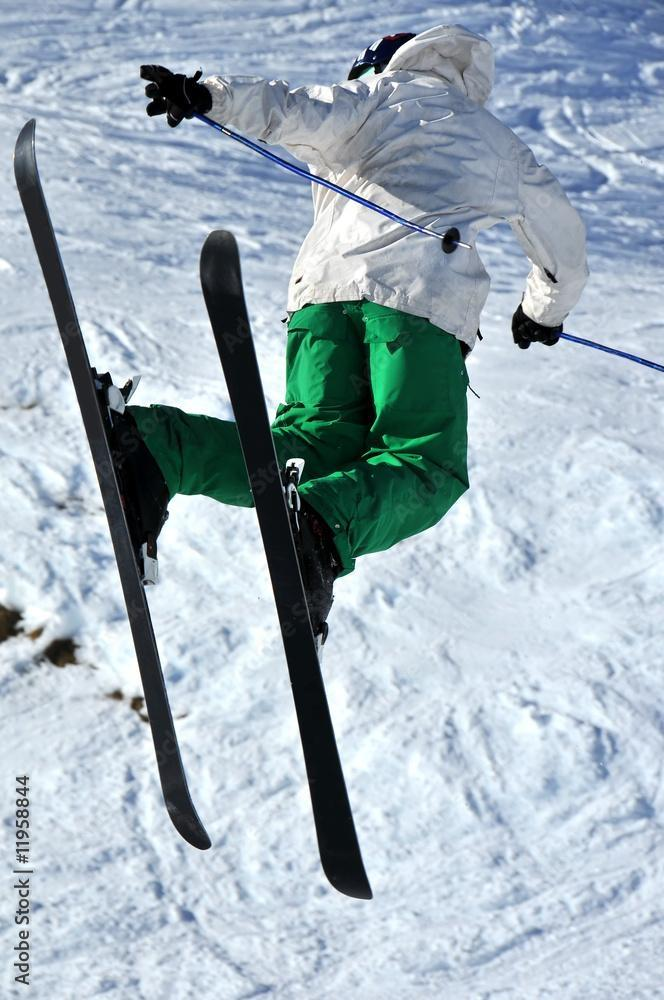Skis: (49, 119, 347, 916)
